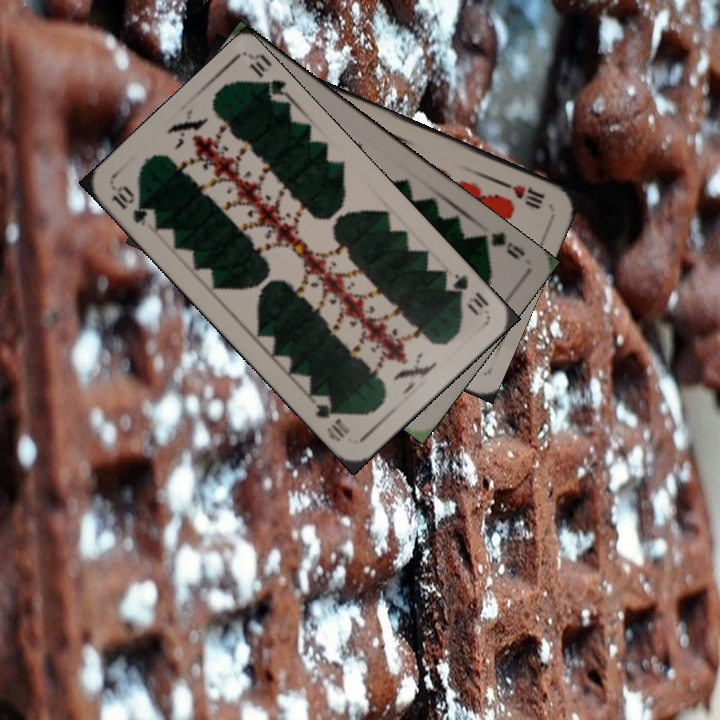G10: (441, 269, 492, 319), (107, 181, 150, 229)
G9: (473, 227, 528, 262)
H10: (495, 176, 547, 212)
